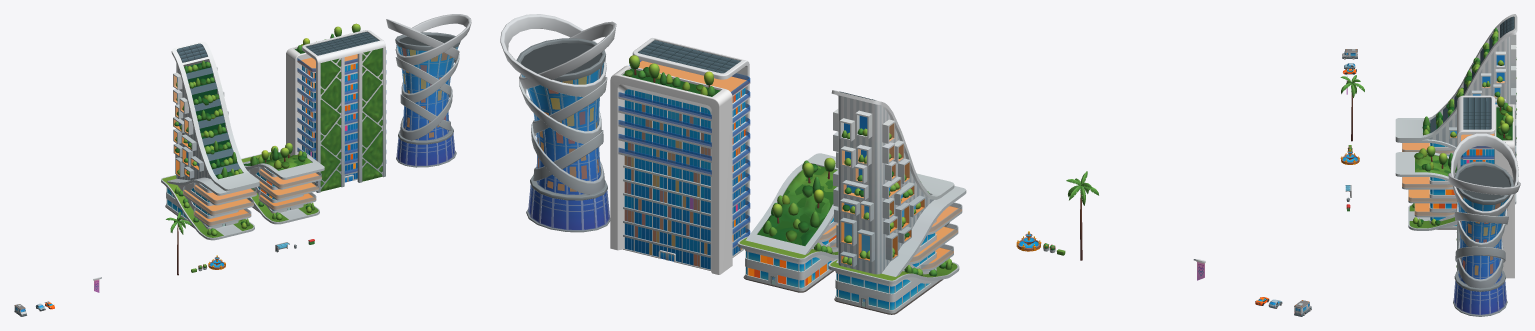
The model's file is city.glb.
3 renders of one model, left to right at view 1: azimuth 30°, elevation 25°; view 2: azimuth 150°, elevation 25°; view 3: azimuth 270°, elevation 25°, orthographic. The views are drawn at different scales.
Parts seen in each view (by area): view 1: Cube.125, Eco_Building_Slope, Cylinder.005, Cube.018, Regular_Building_TwistedTower_Large_NightLight, Eco_Building_Grid_NightLight; view 2: Cube.125, Eco_Building_Slope, Cylinder.005, Cube.018, Eco_Building_Grid_NightLight, Regular_Building_TwistedTower_Large_NightLight, Palm_03; view 3: Cylinder.005, Eco_Building_Slope, Cube.125, Cube.018, Regular_Building_TwistedTower_Large_NightLight, Palm_03, Fountain_03, Eco_Building_Terrace_NightLight, Van.
Boxes of the visible parts, x1,y1,x2,y2 form: Cube.125: [286, 23, 386, 192]; Eco_Building_Slope: [161, 41, 259, 240]; Cylinder.005: [386, 14, 471, 167]; Cube.018: [241, 143, 324, 224]; Regular_Building_TwistedTower_Large_NightLight: [402, 48, 455, 137]; Eco_Building_Grid_NightLight: [302, 64, 355, 183]; Cube.125: [610, 38, 750, 274]; Eco_Building_Slope: [828, 90, 966, 314]; Cylinder.005: [500, 14, 616, 232]; Cube.018: [737, 153, 838, 292]; Eco_Building_Grid_NightLight: [624, 90, 745, 266]; Regular_Building_TwistedTower_Large_NightLight: [537, 67, 601, 191]; Palm_03: [1066, 171, 1098, 260]; Cylinder.005: [1448, 133, 1520, 316]; Eco_Building_Slope: [1395, 14, 1517, 157]; Cube.125: [1456, 95, 1514, 278]; Cube.018: [1395, 146, 1516, 230]; Regular_Building_TwistedTower_Large_NightLight: [1459, 193, 1502, 275]; Palm_03: [1340, 75, 1364, 141]; Fountain_03: [1340, 149, 1359, 164]; Eco_Building_Terrace_NightLight: [1433, 189, 1456, 208]; Van: [1342, 49, 1357, 58].
Bounding box in the file's own units: 201 × 57.41 × 57.
7 materials, 7 textured.
